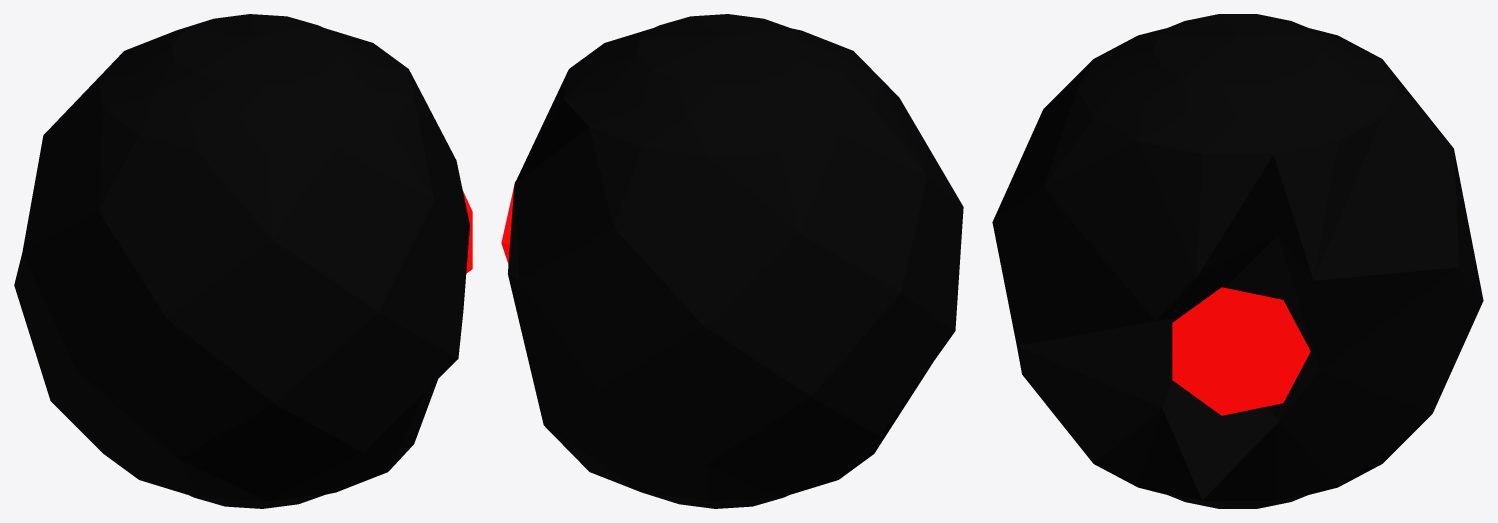
The model's file is scanner.glb.
3 views of the same model, side by side, from view 1: azimuth 30°, elevation 25°; view 2: azimuth 150°, elevation 25°; view 3: azimuth 270°, elevation 25° (orthographic).
Parts seen in each view (by area): view 1: ball; view 2: ball; view 3: ball, pupil.
Part boxes in pixels (x1,y1,x2,y2): ball: (14,14,469,508); ball: (507,14,963,508); ball: (992,14,1483,508); pupil: (1172,287,1310,415).
Size of the model in its own units: 1.81 by 2 by 1.97.
